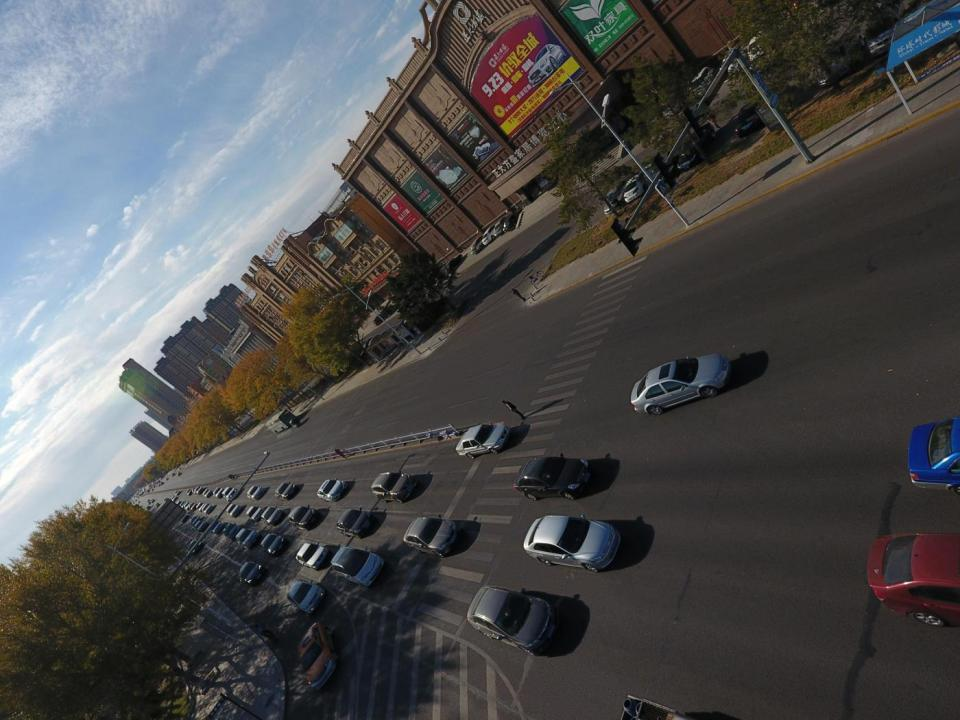bus: (266, 410, 297, 435)
car: (866, 531, 960, 626), (465, 586, 559, 658), (630, 355, 735, 416), (524, 514, 622, 573), (515, 458, 594, 498), (819, 29, 864, 88), (298, 622, 338, 688), (403, 516, 461, 557), (454, 424, 510, 460), (679, 124, 716, 172), (734, 91, 768, 139), (371, 471, 417, 503), (748, 19, 782, 61), (624, 161, 658, 203), (286, 579, 326, 613), (605, 178, 633, 220), (336, 509, 375, 539), (295, 542, 328, 571), (288, 506, 320, 530), (237, 561, 266, 586), (317, 479, 347, 502), (260, 534, 287, 558), (503, 207, 524, 233), (235, 528, 260, 549), (483, 220, 503, 246), (261, 505, 283, 526), (493, 214, 512, 237), (445, 253, 464, 276), (471, 229, 488, 253), (274, 484, 298, 500), (222, 523, 242, 540), (246, 485, 266, 500), (245, 505, 262, 522), (221, 486, 238, 501), (226, 503, 242, 518), (209, 520, 224, 534), (188, 540, 202, 553), (194, 520, 208, 533), (212, 486, 225, 499), (202, 503, 214, 515), (190, 514, 201, 527), (179, 512, 189, 522), (203, 489, 213, 498), (194, 486, 204, 495), (196, 502, 204, 512), (193, 485, 200, 495), (189, 503, 198, 510), (183, 503, 192, 510), (180, 500, 187, 509), (176, 500, 184, 507), (174, 490, 180, 496), (186, 490, 193, 495), (170, 496, 177, 501), (164, 498, 169, 503), (146, 500, 152, 504), (155, 503, 160, 507), (146, 498, 150, 503), (177, 472, 182, 476), (151, 498, 155, 502), (146, 506, 150, 510), (171, 472, 175, 476), (160, 481, 164, 485), (165, 477, 169, 480), (157, 484, 160, 487), (151, 488, 153, 492), (156, 484, 158, 486)
van: (864, 0, 908, 58), (330, 546, 385, 588), (693, 66, 718, 101)
